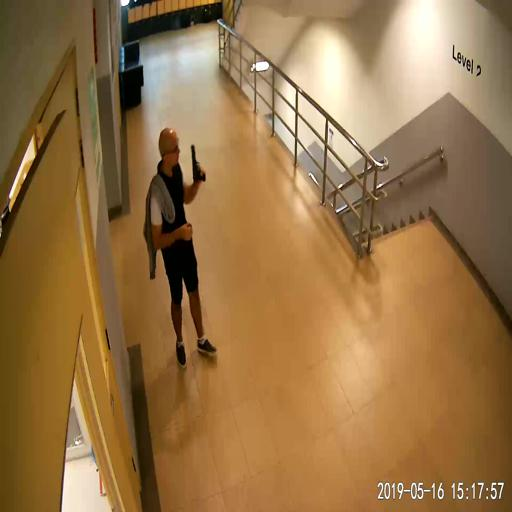pistol: (190, 144, 205, 183)
